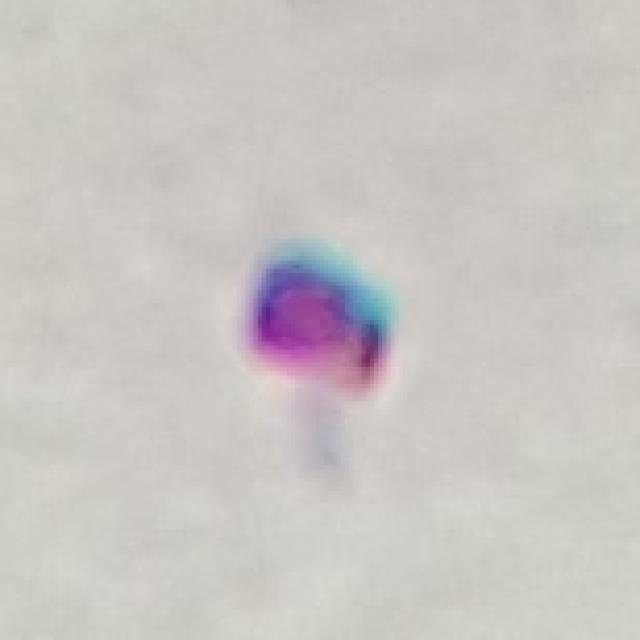non-sperm: (242, 249, 394, 392)
